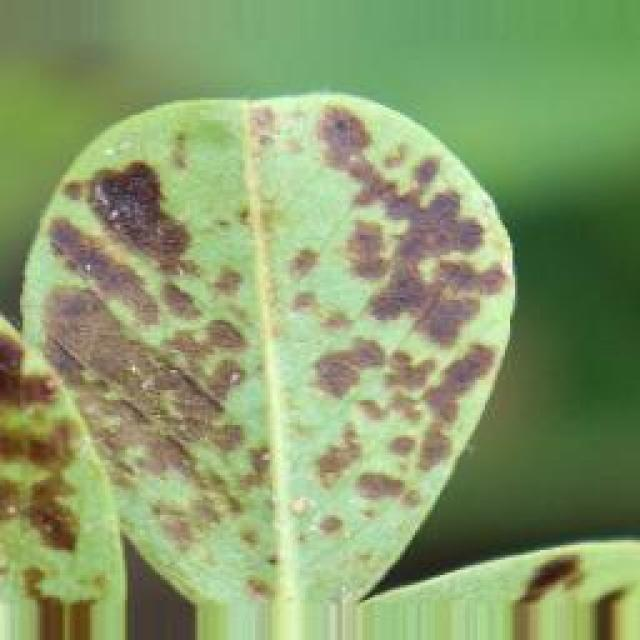Whitefly: (0, 71, 522, 574)
